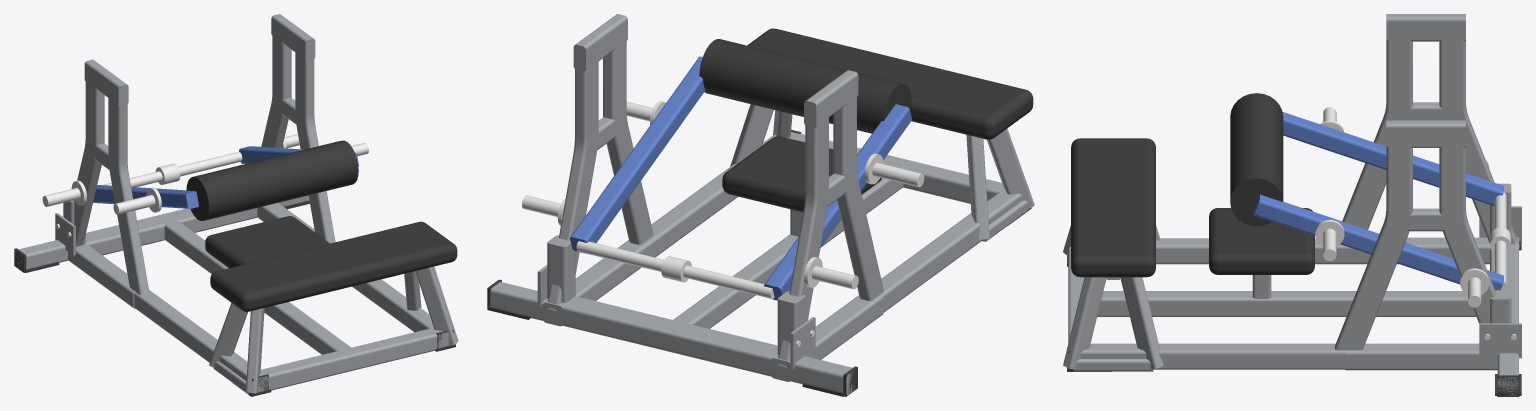
The picture shows the model from 3 angles, left to right: view 1: azimuth 30°, elevation 25°; view 2: azimuth 150°, elevation 25°; view 3: azimuth 270°, elevation 25°; orthographic projection. The views are drawn at different scales.
Visible parts, largest first — view 1: base, side_leg_tube (×4), bench_pad, lever_roller, bench_leg (×4), seat_pad, lever_support, side_cap (×2), frame, lever_bar (×2), lever_axle, lever_horn (+4 smaller); view 2: base, side_leg_tube (×4), bench_pad, lever_roller, lever_bar (×2), seat_pad, bench_leg (×3), lever_support, side_cap (×2), frame, lever_axle, storage_horn (×2) (+5 smaller); view 3: base, side_leg_tube (×4), bench_pad, lever_bar (×2), lever_roller, seat_pad, frame, bench_leg (×2), side_cap (×2), gusset (×2), lever_support, bench (+5 smaller).
Boxes of the visible parts, bbox=[...] form: base: bbox=[14, 195, 448, 393]; side_leg_tube (×4): bbox=[73, 27, 335, 294]; bench_pad: bbox=[210, 221, 457, 311]; lever_roller: bbox=[186, 140, 358, 220]; bench_leg (×4): bbox=[209, 266, 458, 393]; seat_pad: bbox=[205, 216, 329, 268]; lever_support: bbox=[63, 200, 257, 255]; side_cap (×2): bbox=[84, 14, 315, 106]; frame: bbox=[68, 98, 314, 308]; lever_bar (×2): bbox=[93, 146, 358, 208]; lever_axle: bbox=[103, 152, 242, 187]; lever_horn: bbox=[113, 187, 161, 214]; base: bbox=[490, 132, 1021, 395]; side_leg_tube (×4): bbox=[547, 40, 883, 367]; bench_pad: bbox=[747, 28, 1033, 139]; lever_roller: bbox=[699, 39, 911, 133]; lever_bar (×2): bbox=[570, 56, 911, 300]; seat_pad: bbox=[722, 136, 881, 212]; bench_leg (×3): bbox=[730, 104, 1034, 239]; lever_support: bbox=[547, 235, 805, 354]; side_cap (×2): bbox=[573, 14, 858, 127]; frame: bbox=[575, 117, 883, 359]; lever_axle: bbox=[576, 241, 774, 298]; storage_horn (×2): bbox=[522, 195, 858, 289]; base: bbox=[1068, 236, 1518, 395]; side_leg_tube (×4): bbox=[1335, 30, 1519, 350]; bench_pad: bbox=[1071, 138, 1155, 277]; lever_bar (×2): bbox=[1253, 112, 1503, 290]; lever_roller: bbox=[1230, 93, 1283, 226]; seat_pad: bbox=[1209, 208, 1314, 274]; frame: bbox=[1345, 102, 1497, 370]; bench_leg (×2): bbox=[1063, 277, 1163, 369]; side_cap (×2): bbox=[1386, 14, 1465, 147]; gusset (×2): bbox=[1479, 206, 1521, 358]; lever_support: bbox=[1490, 183, 1511, 361]; bench: bbox=[1073, 359, 1153, 371].
Size of the model in its own units: 1.48 by 1.02 by 1.73.
